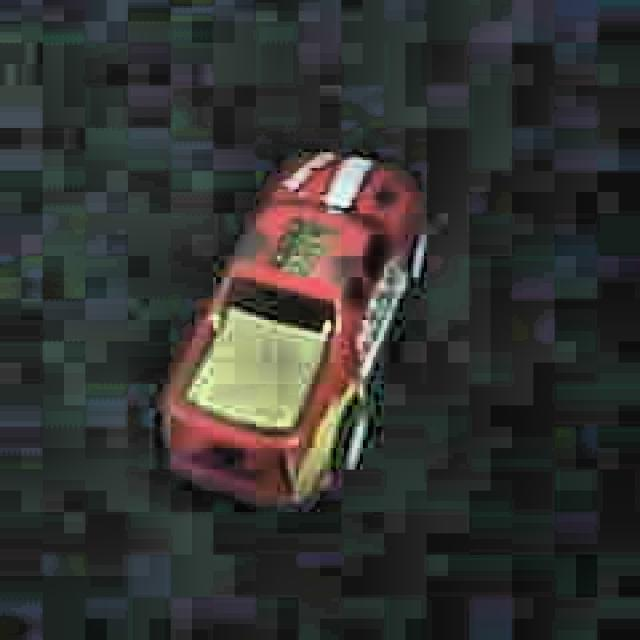car: (156, 144, 432, 512)
